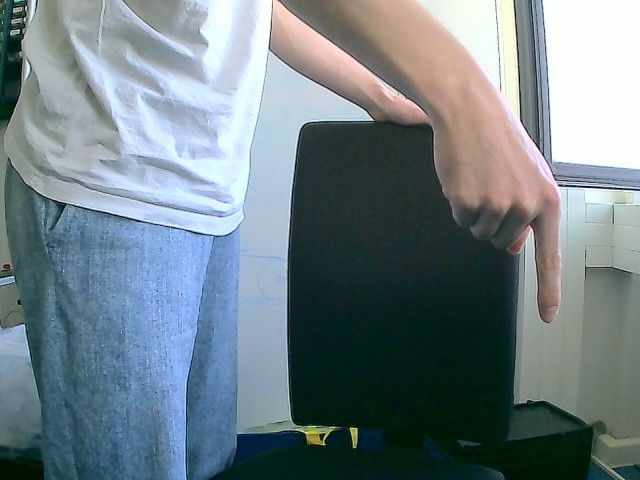down: (429, 107, 564, 324)
